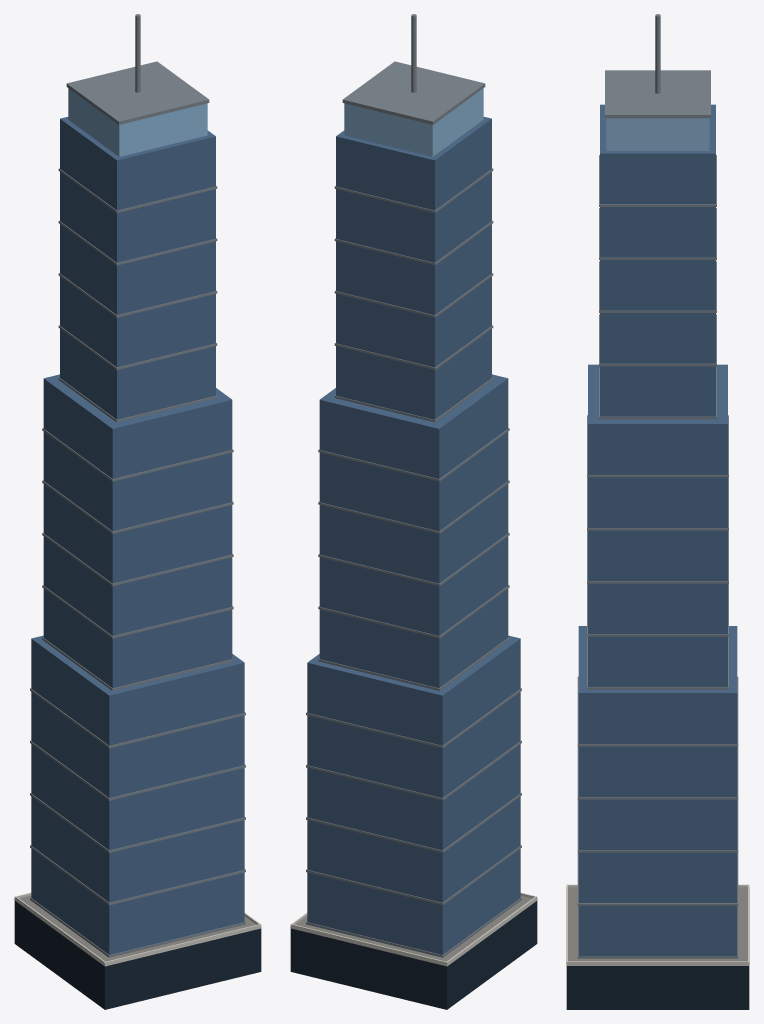
Rendered from tour_verre.glb.
3 views of the same model, side by side, from view 1: azimuth 30°, elevation 25°; view 2: azimuth 150°, elevation 25°; view 3: azimuth 270°, elevation 25° (orthographic).
Visible parts, largest first — view 1: tour_verre; view 2: tour_verre; view 3: tour_verre.
Part boxes in pixels (box(x1,y1,x2,y2)): tour_verre: box(14, 14, 261, 1009); tour_verre: box(290, 14, 537, 1009); tour_verre: box(566, 14, 749, 1009).
Bounding box in the file's own units: 30.1 × 173 × 30.1.
1 material, 1 textured.
